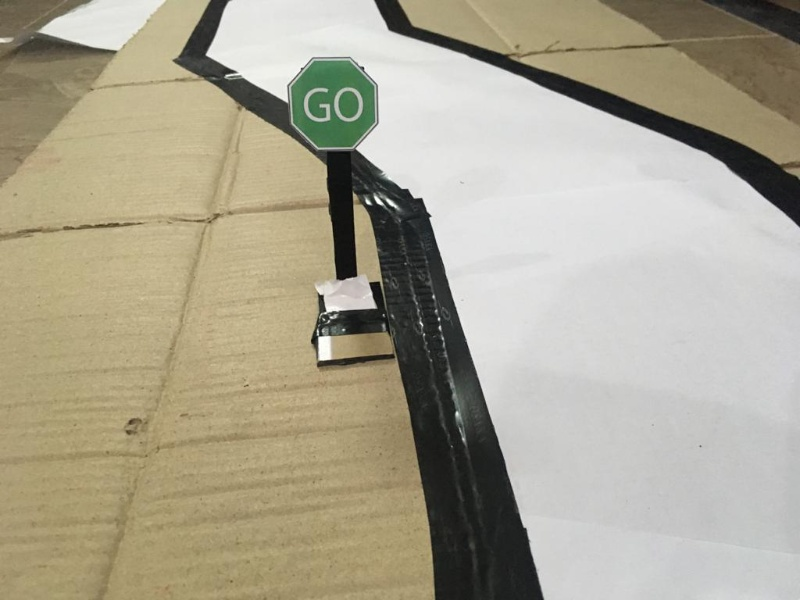Go: (283, 52, 382, 157)
